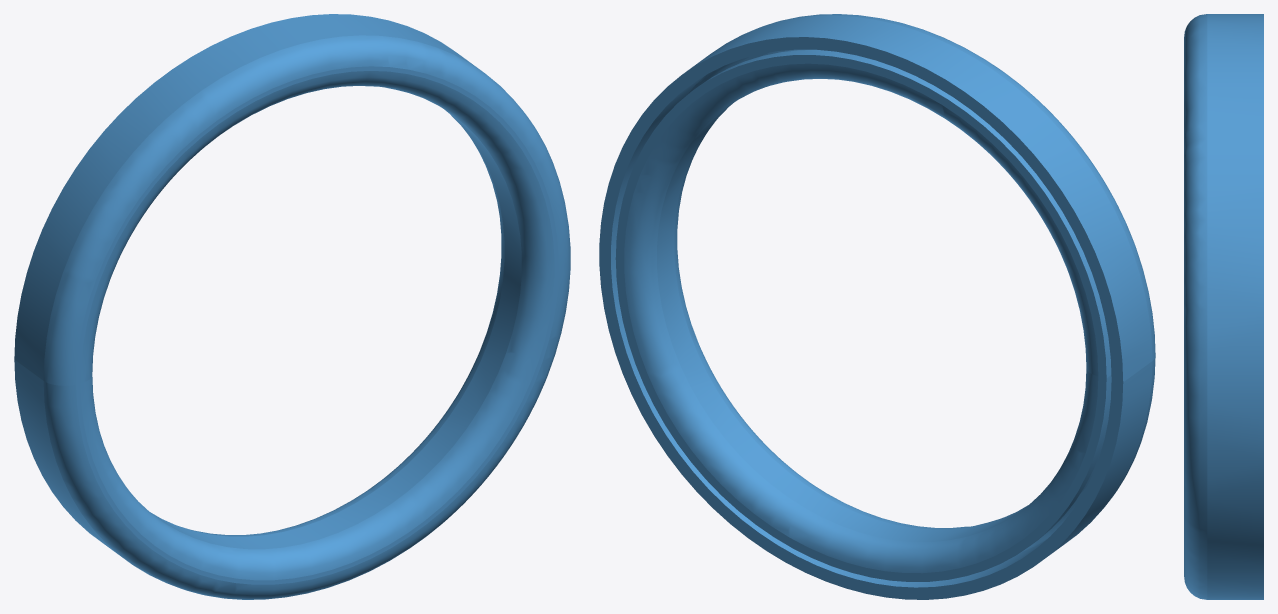
Rendered from 60_bordon.glb.
3 views of the same model, side by side, from view 1: azimuth 30°, elevation 25°; view 2: azimuth 150°, elevation 25°; view 3: azimuth 270°, elevation 25° (orthographic). The views are drawn at different scales.
Parts seen in each view (by area): view 1: Part 1; view 2: Part 1; view 3: Part 1.
Boxes of the visible parts, <box> form: Part 1: <box>14,14,570,599</box>; Part 1: <box>599,14,1155,599</box>; Part 1: <box>1184,14,1263,599</box>.
Size of the model in its own units: 63.18 by 63.19 by 8.6.
